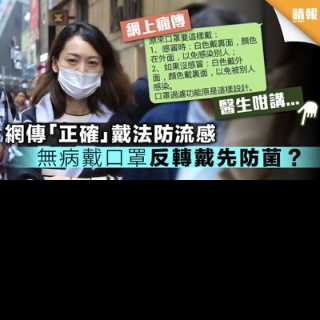with_mask: (54, 50, 103, 102)
